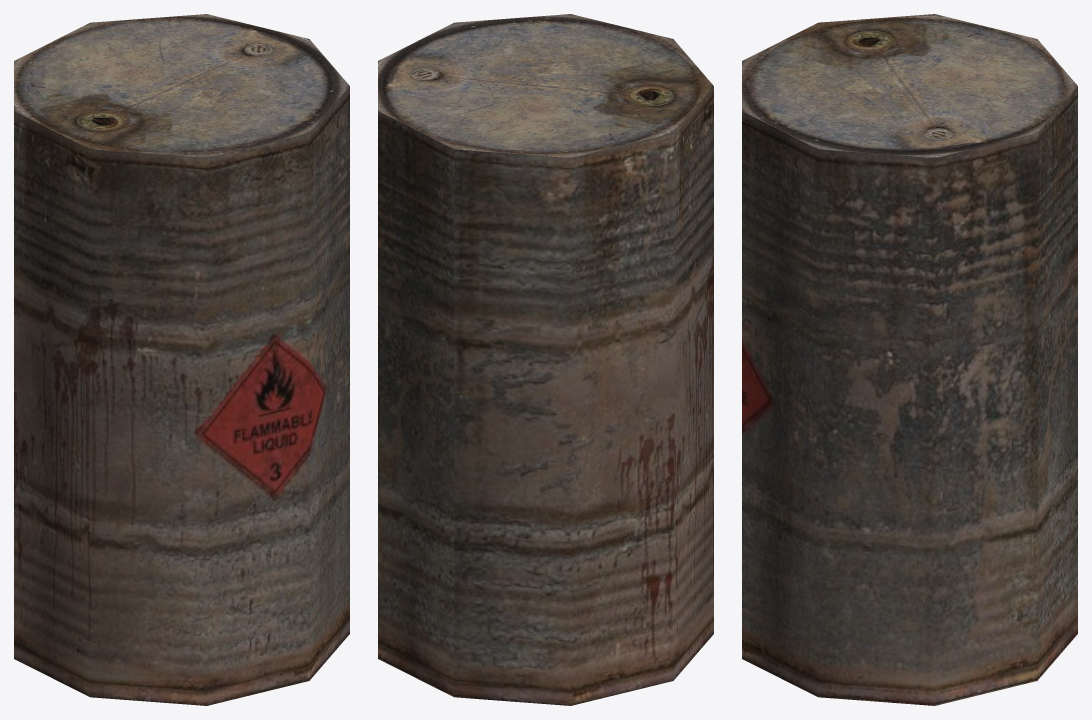
The model's file is Barrel_v2_quadro (1).glb.
3 renders of one model, left to right at view 1: azimuth 30°, elevation 25°; view 2: azimuth 150°, elevation 25°; view 3: azimuth 270°, elevation 25°, orthographic.
Parts seen in each view (by area): view 1: Barrel_v2_quadro (1); view 2: Barrel_v2_quadro (1); view 3: Barrel_v2_quadro (1).
Boxes of the visible parts, bbox=[...] form: Barrel_v2_quadro (1): bbox=[14, 14, 349, 705]; Barrel_v2_quadro (1): bbox=[378, 14, 713, 705]; Barrel_v2_quadro (1): bbox=[742, 14, 1077, 705].
Size of the model in its own units: 0.5815 by 1.03 by 0.5727.
1 material, 1 textured.
